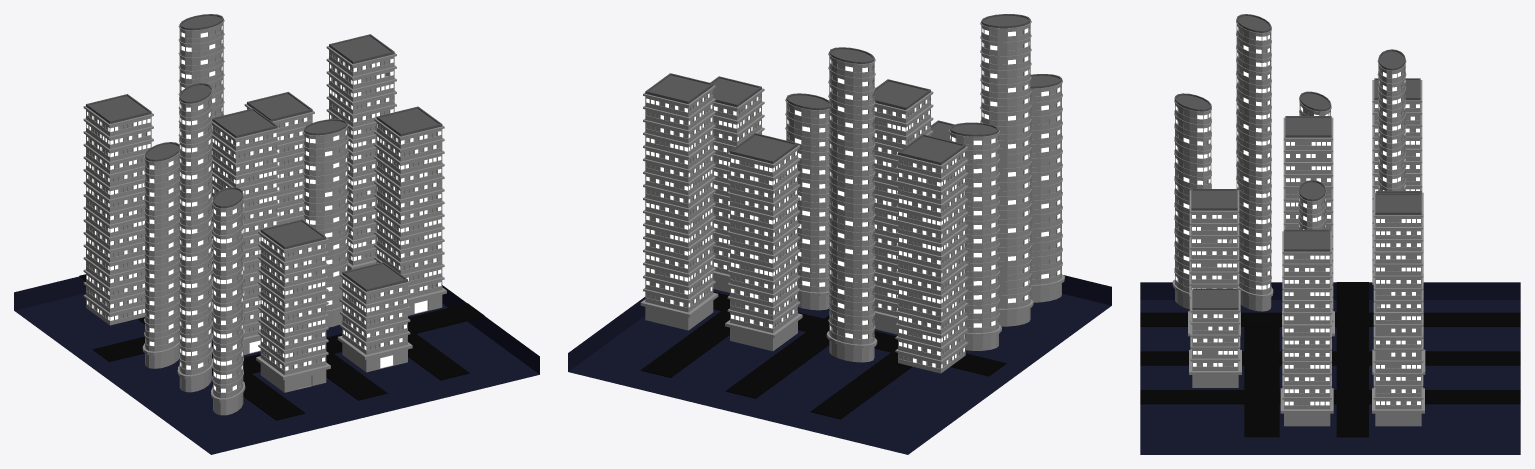
Rendered from city.gltf.
The picture shows the model from 3 angles, left to right: view 1: azimuth 30°, elevation 25°; view 2: azimuth 150°, elevation 25°; view 3: azimuth 270°, elevation 25°; orthographic projection. The views are drawn at different scales.
Visible parts, largest first — view 1: Plane.006, Plane.022, Plane.013, Circle.025, Plane.034, Plane.016, Plane.004, Circle.016, Circle.028, Circle.022, Plane.031, Circle.004 (+24 smaller); view 2: Plane.006, Plane.016, Plane.022, Circle.004, Plane.001, Circle.025, Circle.016, Circle.028, Circle.022, Plane.004, Plane.013, Plane.007 (+19 smaller); view 3: Plane.006, Plane.016, Circle.025, Plane.013, Circle.028, Plane.034, Plane.009, Plane.008, Plane.004, Circle.004, Plane.010, Plane.007 (+19 smaller).
Part boxes in pixels (x1,y1,x2,y2): Plane.006: (14, 276, 539, 454); Plane.022: (83, 105, 153, 325); Plane.013: (374, 118, 444, 298); Circle.025: (179, 89, 212, 375); Plane.034: (258, 231, 328, 375); Plane.016: (326, 46, 396, 265); Plane.004: (212, 121, 279, 337); Circle.016: (144, 153, 179, 351); Circle.028: (212, 193, 243, 398); Circle.022: (303, 123, 348, 310); Plane.031: (340, 273, 410, 354); Circle.004: (178, 18, 224, 135); Plane.006: (568, 275, 1111, 454); Plane.016: (643, 85, 715, 312); Plane.022: (895, 146, 968, 373); Circle.004: (828, 52, 875, 344); Plane.001: (727, 145, 800, 333); Circle.025: (980, 20, 1031, 308); Circle.016: (948, 129, 999, 333); Circle.028: (1030, 79, 1062, 284); Circle.022: (785, 98, 829, 292); Plane.004: (874, 91, 933, 316); Plane.013: (713, 88, 764, 274); Plane.007: (725, 315, 829, 398); Plane.006: (1140, 282, 1520, 454); Plane.016: (1373, 194, 1423, 409); Circle.025: (1236, 18, 1271, 294); Plane.013: (1282, 231, 1331, 409); Circle.028: (1174, 97, 1211, 292); Plane.034: (1189, 190, 1239, 322); Plane.009: (1140, 390, 1520, 404); Plane.008: (1336, 282, 1368, 437); Plane.004: (1283, 117, 1333, 322); Circle.004: (1377, 59, 1406, 190); Plane.010: (1140, 312, 1520, 326); Plane.007: (1140, 351, 1520, 365).
Size of the model in its own units: 15.82 by 14.2 by 16.43.
